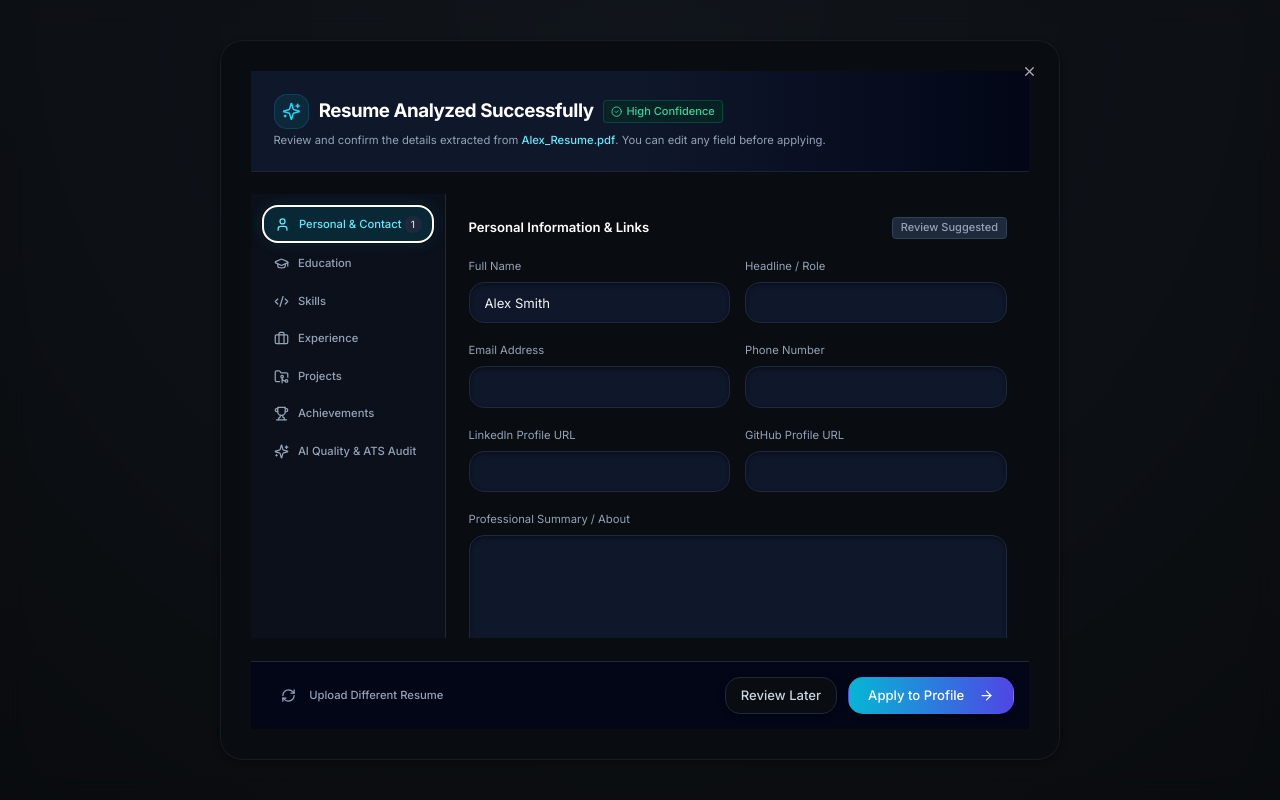
Resume AI Intelligence Upgrade Frontend Suite › 5. Uploaded Resume Review Dialog Integration › renders AI Quality & ATS Audit tab and executes audit upon request
What coordinates should you click on to do the following:
click the button "AI Quality & ATS Audit"
I would click on:
 (348, 451)
Its box is [262, 434, 434, 468].
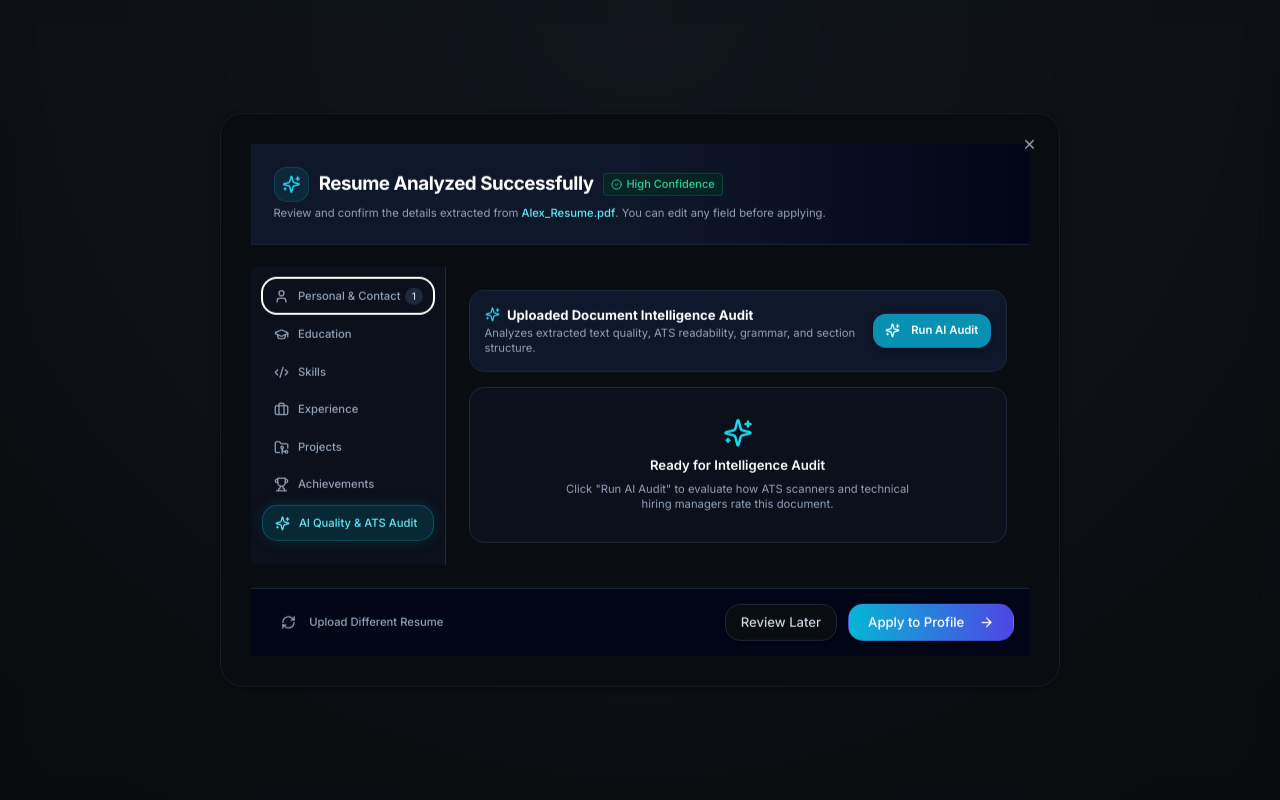
# Click "Run AI Audit"
What coordinates should you click on to do the following:
click the button "Run AI Audit"
I would click on:
 (932, 331)
Its box is [873, 314, 990, 348].
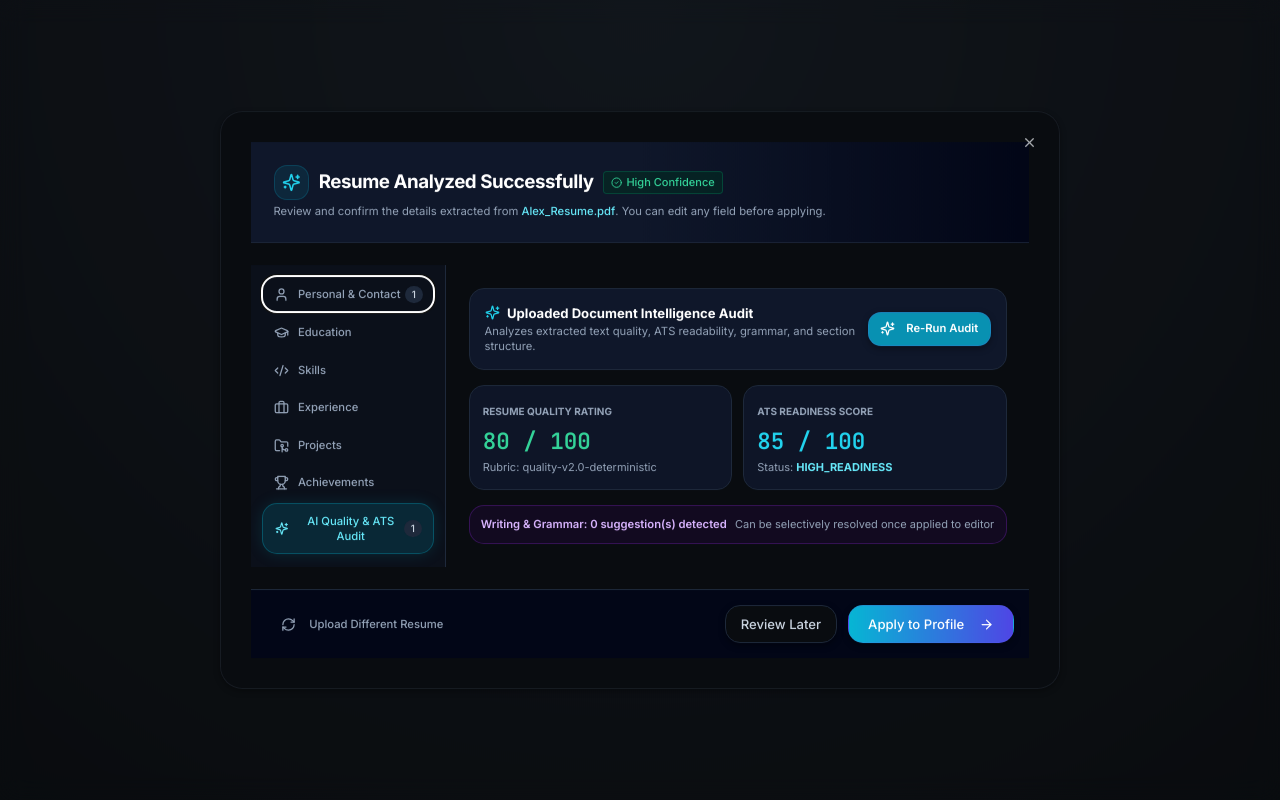
expect the text "80 / 100" is shown: met, box [483, 426, 591, 456]
expect the text "85 / 100" is shown: met, box [757, 426, 865, 456]
